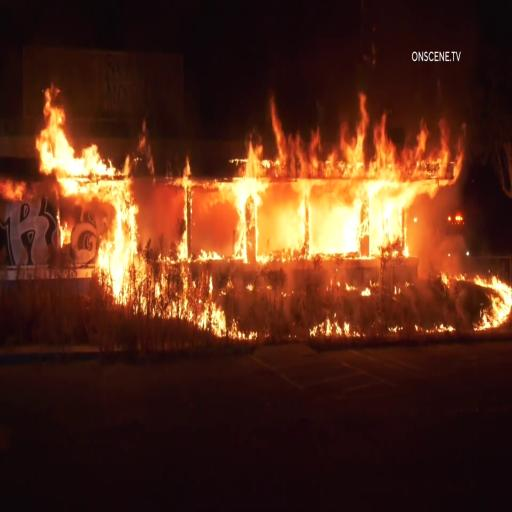fire: (263, 110, 462, 264), (90, 170, 156, 309), (29, 82, 114, 184), (222, 134, 262, 263), (472, 261, 512, 332)
